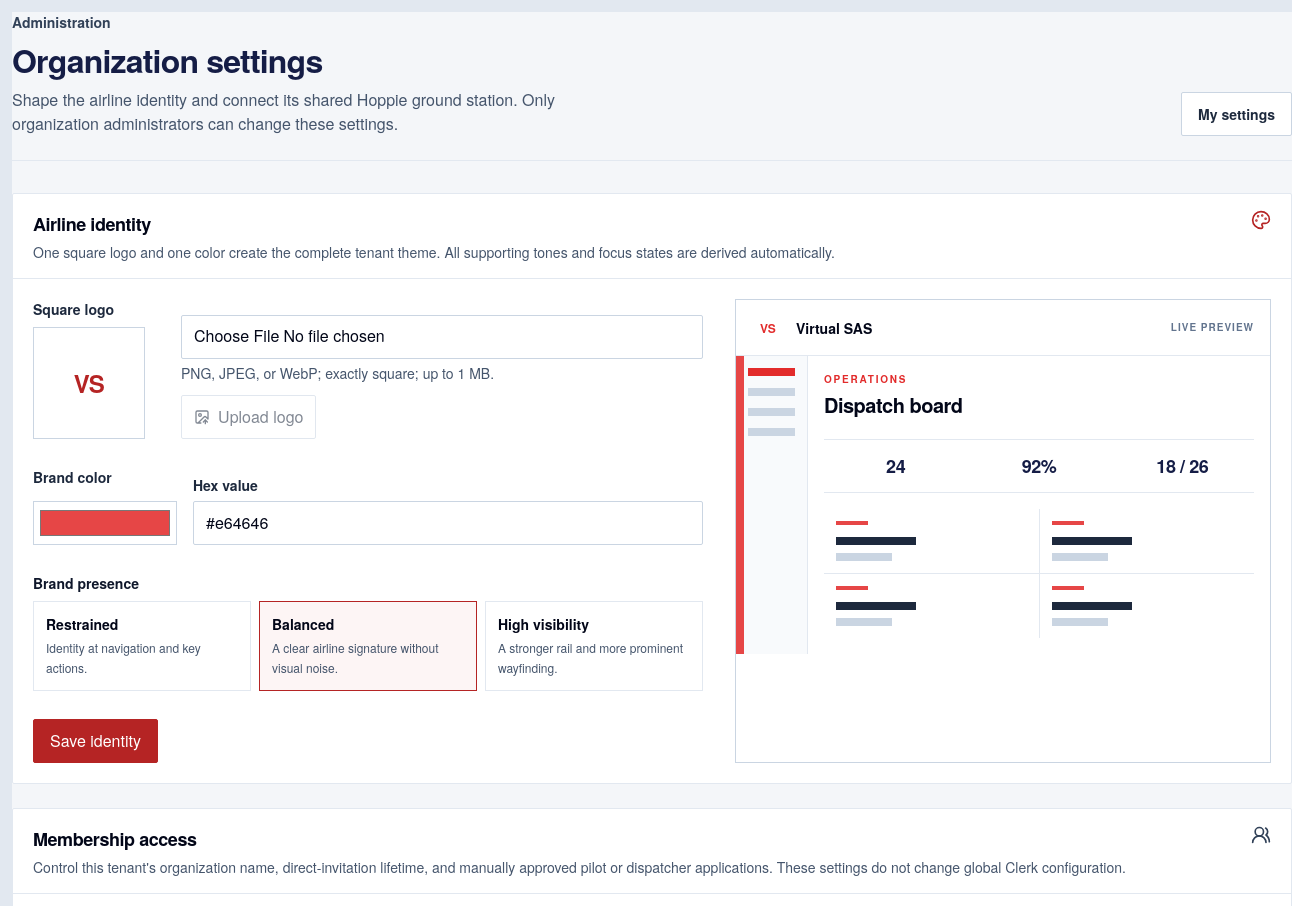
organization settings › previews and saves the one-color airline identity
Replace the text in the field labelled "Hex value" with "#174ea6" at point(448, 523), box [193,501,703,545]
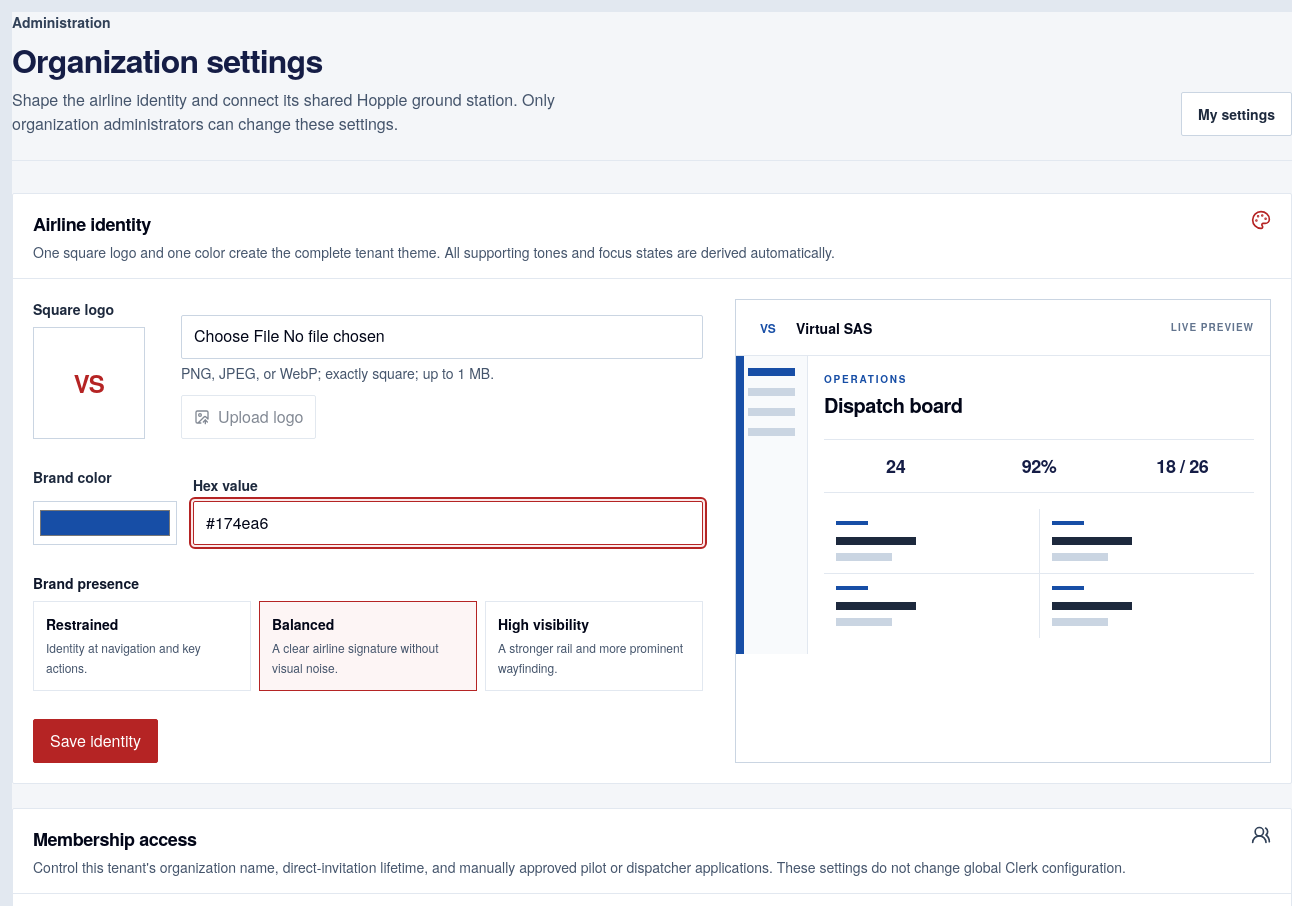
Click the radio button labelled "High visibility" at point(594, 646), box [485,601,703,691]
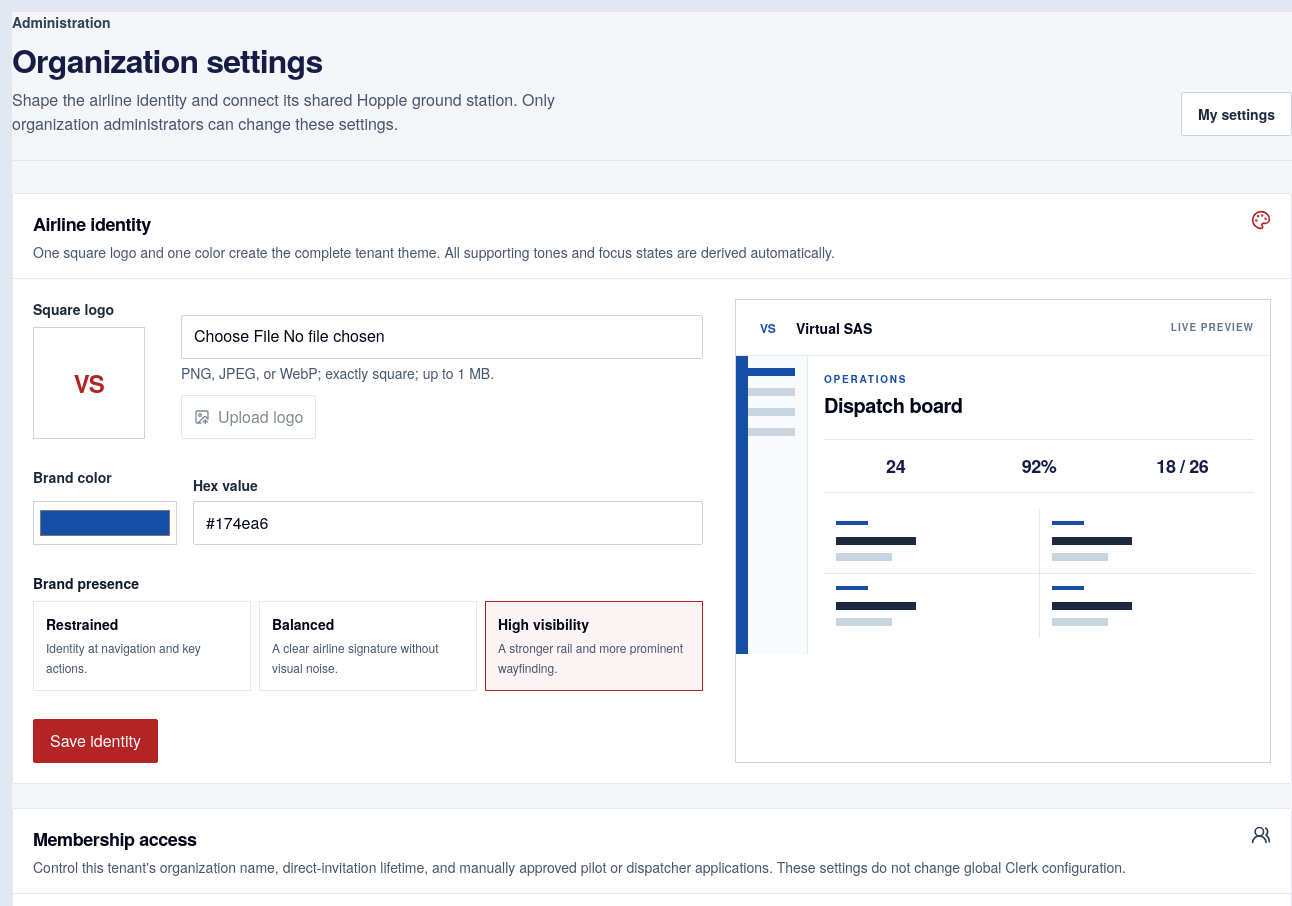
Click the button "Save identity" at point(96, 741), box [33,719,158,763]
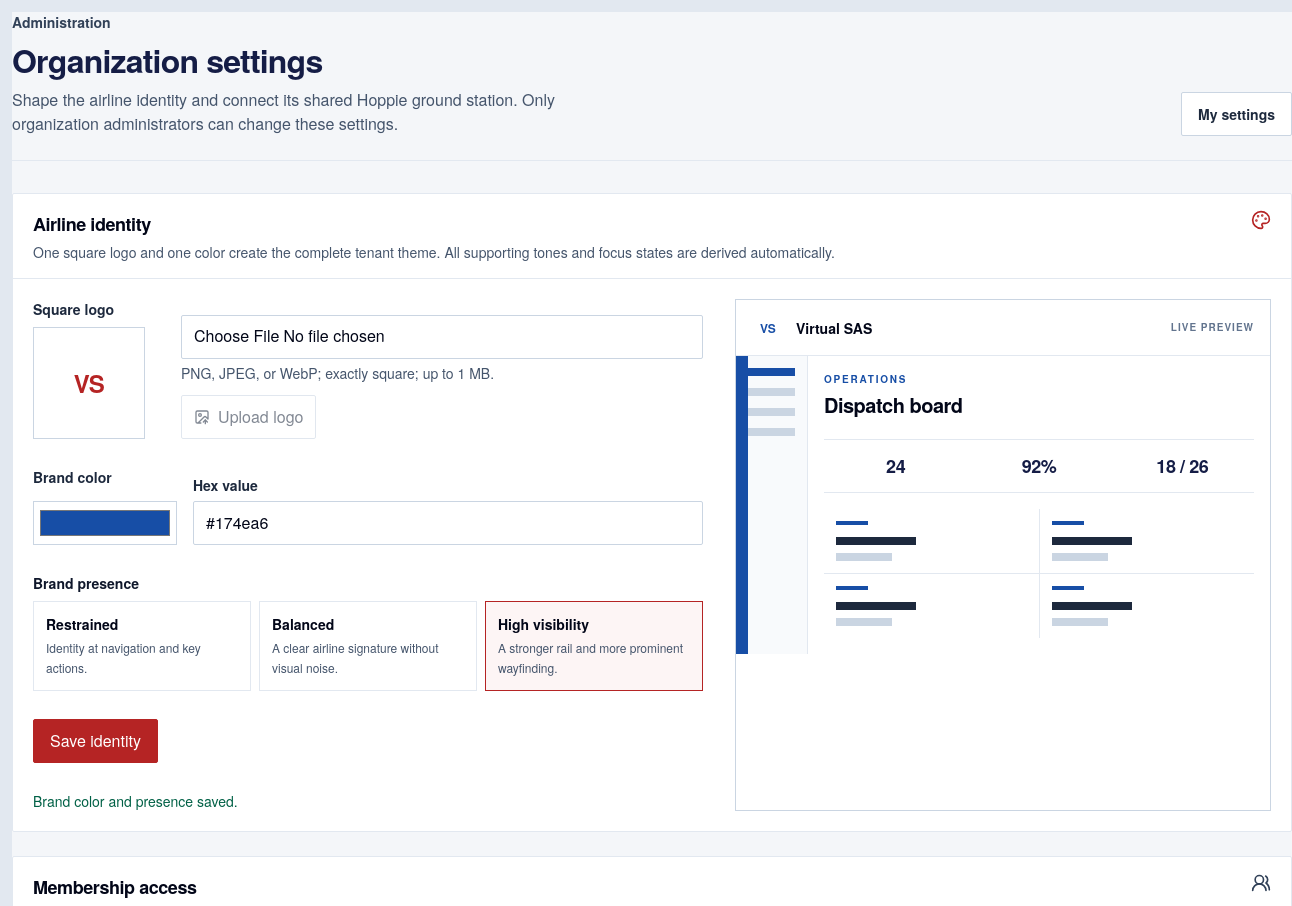
Now the text "Brand color and presence saved." is shown, box [33,791,238,811]
